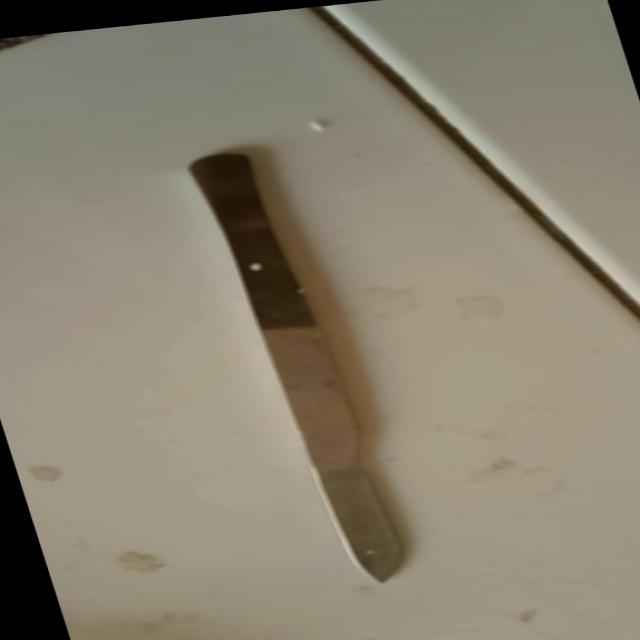Knife: (174, 140, 425, 590)
